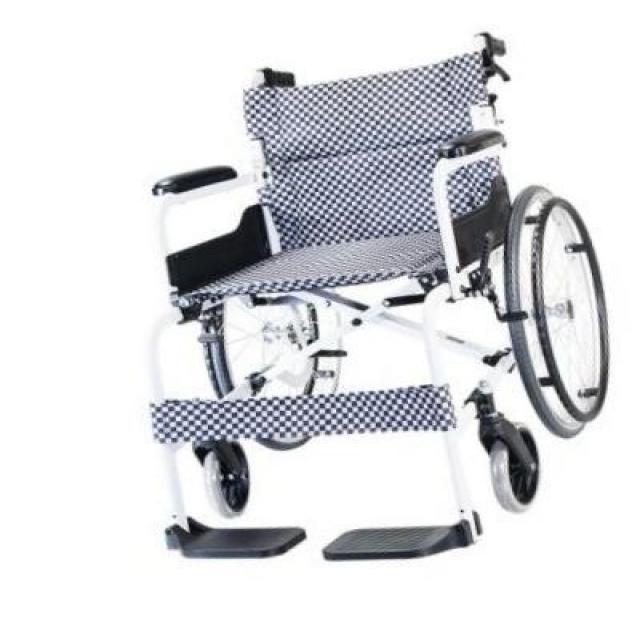wheelchair: (139, 1, 623, 586)
